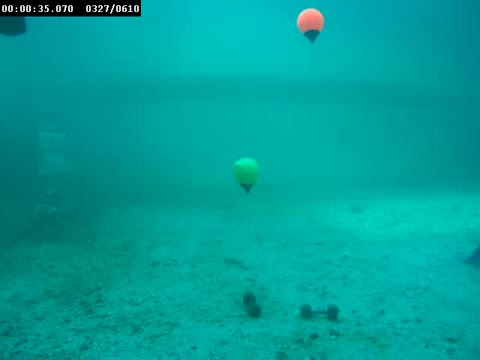buoy_green: (230, 156, 258, 194)
buoy_red: (293, 4, 329, 45)
